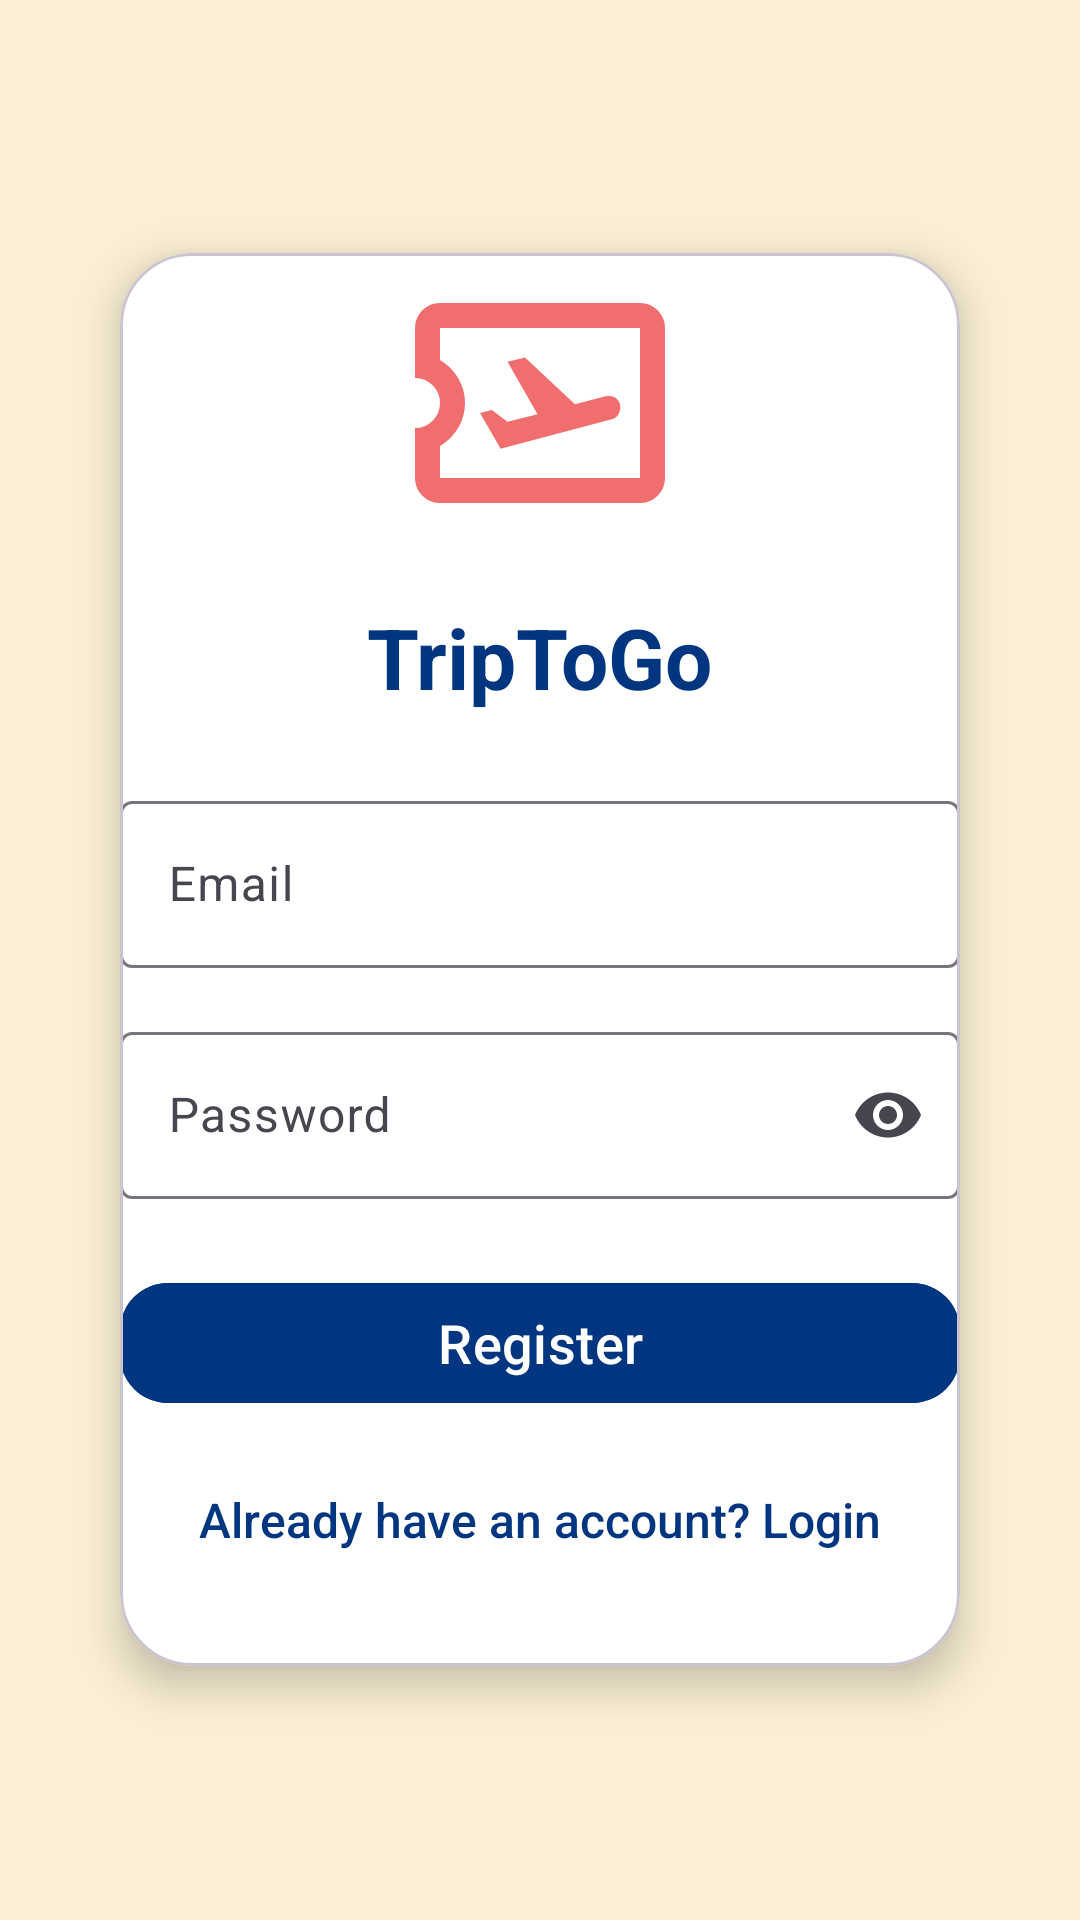

Icon click points for this 1080px x 1920px phone screenshot, format (x=x, y=y):
airplane ticket: (x=540, y=403)
